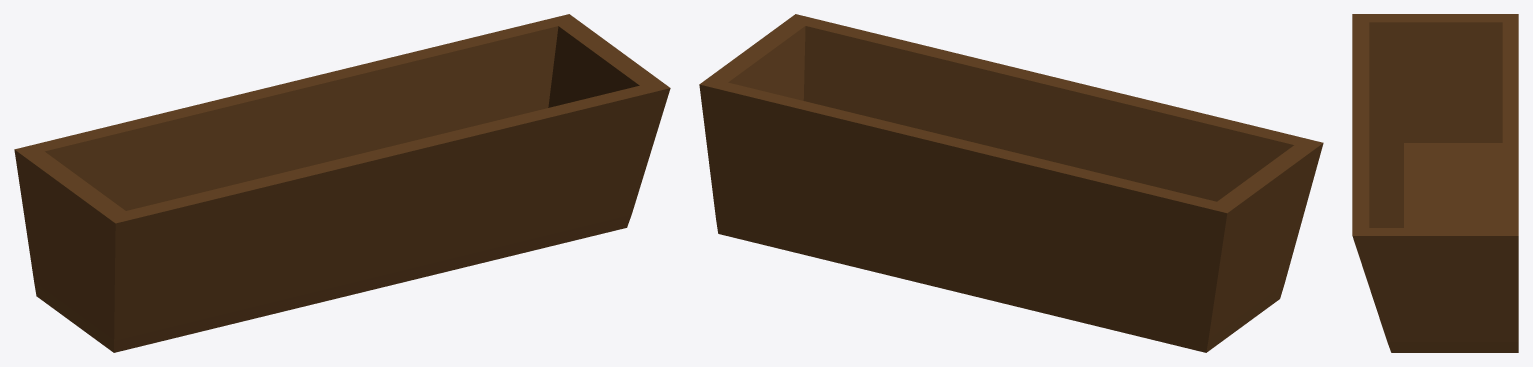
File: WaterCart.fbx
3 views of the same model, side by side, from view 1: azimuth 30°, elevation 25°; view 2: azimuth 150°, elevation 25°; view 3: azimuth 270°, elevation 25° (orthographic). The views are drawn at different scales.
Parts seen in each view (by area): view 1: WaterCart; view 2: WaterCart; view 3: WaterCart.
Boxes of the visible parts, box(x1,y1,x2,y2) form: WaterCart: box(14, 14, 670, 352); WaterCart: box(699, 14, 1323, 352); WaterCart: box(1352, 14, 1518, 352).
Bounding box in the file's own units: 5.35 × 1.4 × 1.69.
